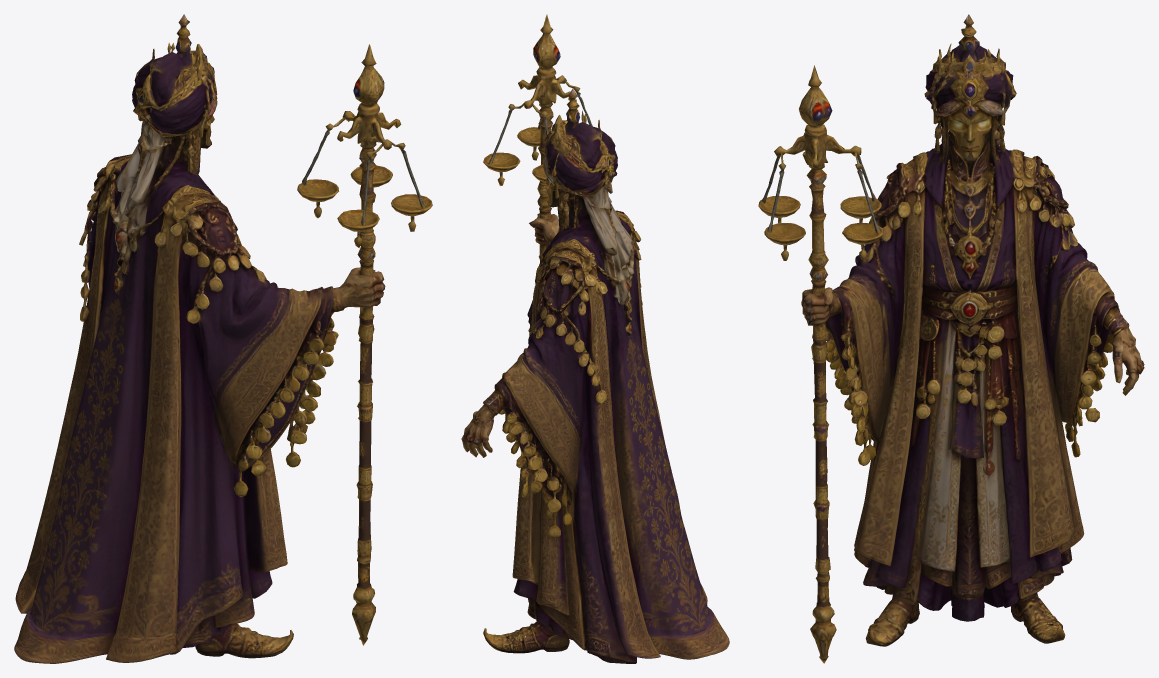
File: MerchantPrince-tripo.glb
3 views of the same model, side by side, from view 1: azimuth 30°, elevation 25°; view 2: azimuth 150°, elevation 25°; view 3: azimuth 270°, elevation 25° (orthographic). The views are drawn at different scales.
Parts seen in each view (by area): view 1: tripo_node_2e23153d-21f9-4185-9777-7af961c35d11; view 2: tripo_node_2e23153d-21f9-4185-9777-7af961c35d11; view 3: tripo_node_2e23153d-21f9-4185-9777-7af961c35d11.
Part boxes in pixels (x1,y1,x2,y2): tripo_node_2e23153d-21f9-4185-9777-7af961c35d11: (14,14,432,663); tripo_node_2e23153d-21f9-4185-9777-7af961c35d11: (461,14,729,663); tripo_node_2e23153d-21f9-4185-9777-7af961c35d11: (758,14,1144,663).
Size of the model in its own units: 0.5466 by 1 by 0.5737.
1 material, 1 textured.
